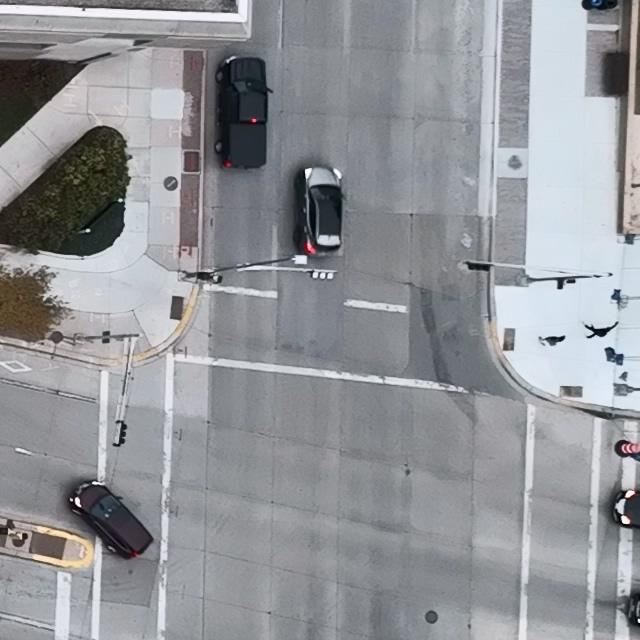car: (68, 479, 154, 559), (214, 56, 274, 170), (293, 166, 347, 257), (610, 489, 640, 530)
